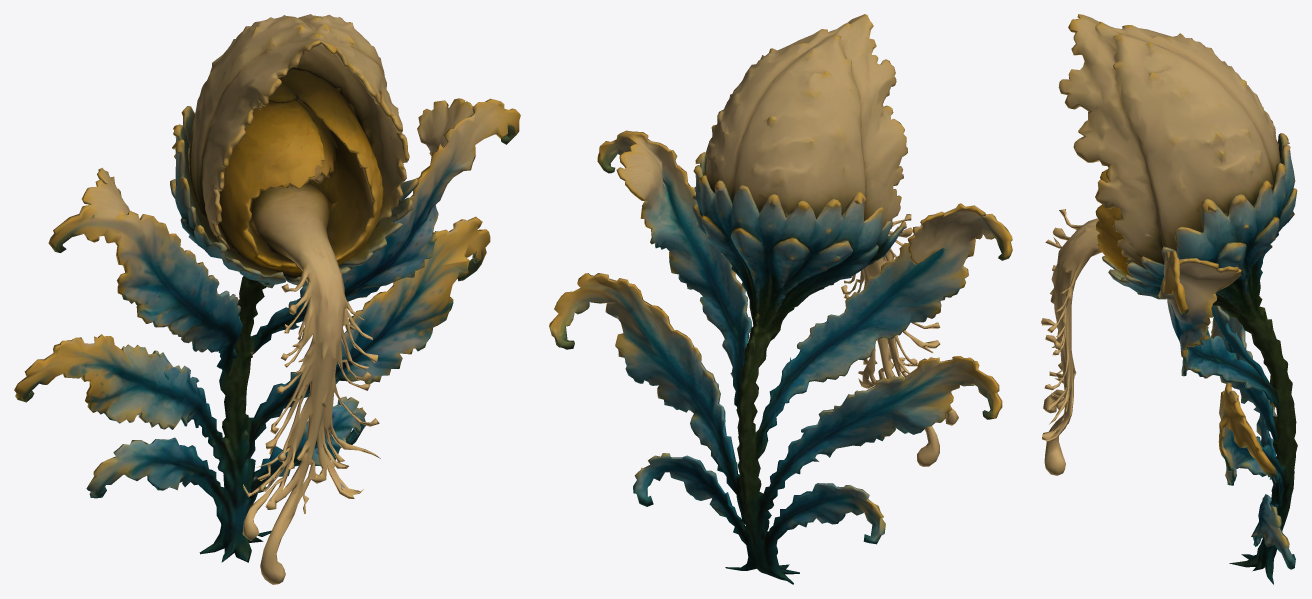
File: ornamental+plant+3d+model+1k.glb
3 renders of one model, left to right at view 1: azimuth 30°, elevation 25°; view 2: azimuth 150°, elevation 25°; view 3: azimuth 270°, elevation 25°, orthographic. The views are drawn at different scales.
Parts seen in each view (by area): view 1: tripo_node_455168c9-7ab3-44b2-a0aa-6979a5029516; view 2: tripo_node_455168c9-7ab3-44b2-a0aa-6979a5029516; view 3: tripo_node_455168c9-7ab3-44b2-a0aa-6979a5029516.
Part boxes in pixels (x1,y1,x2,y2): tripo_node_455168c9-7ab3-44b2-a0aa-6979a5029516: [14, 14, 520, 584]; tripo_node_455168c9-7ab3-44b2-a0aa-6979a5029516: [549, 14, 1012, 584]; tripo_node_455168c9-7ab3-44b2-a0aa-6979a5029516: [1041, 14, 1297, 584].
Size of the model in its own units: 0.8915 by 1 by 0.426.
Materials: 1 (1 with a texture image).
